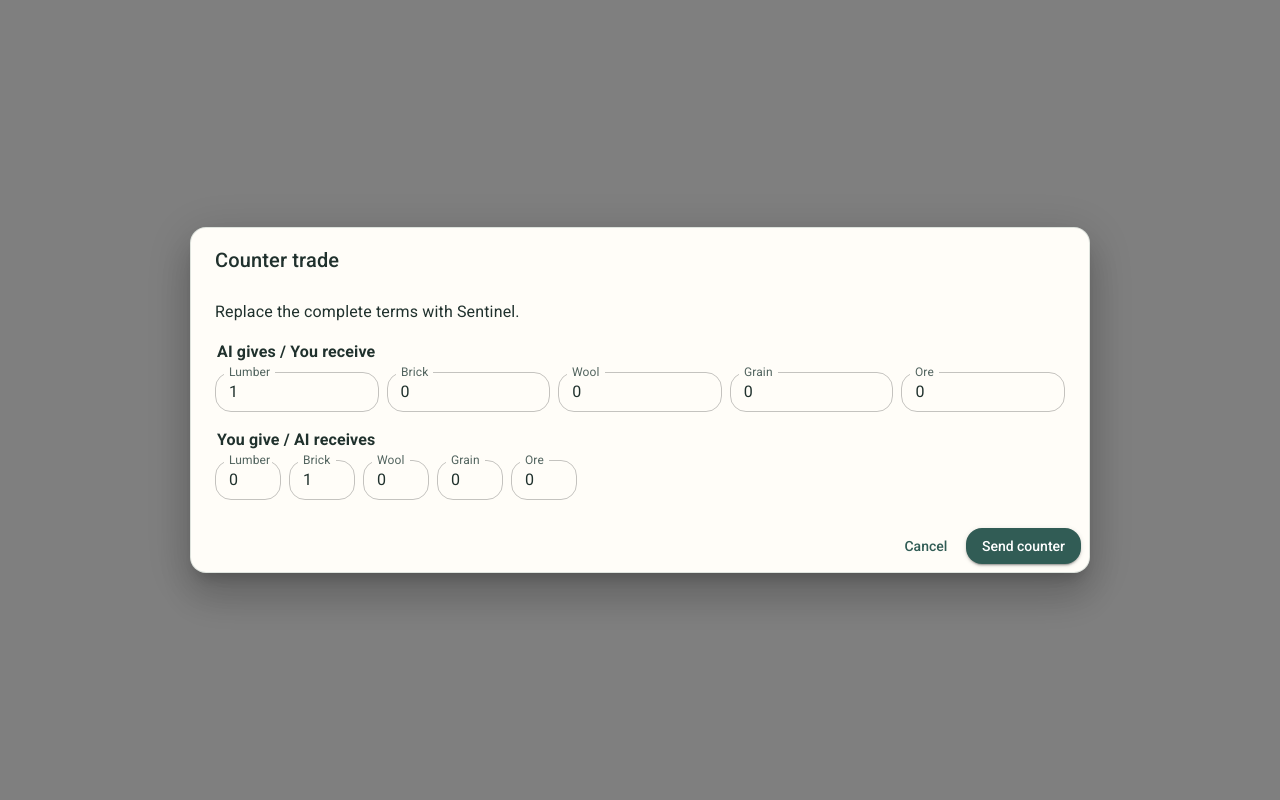
Test: game decision dialogs › blocks empty and overlapping counter terms with non-private explanations
Replace the text in the number field named "AI gives / You receive Brick" with "1". click: (468, 392)
box: [387, 372, 550, 412]
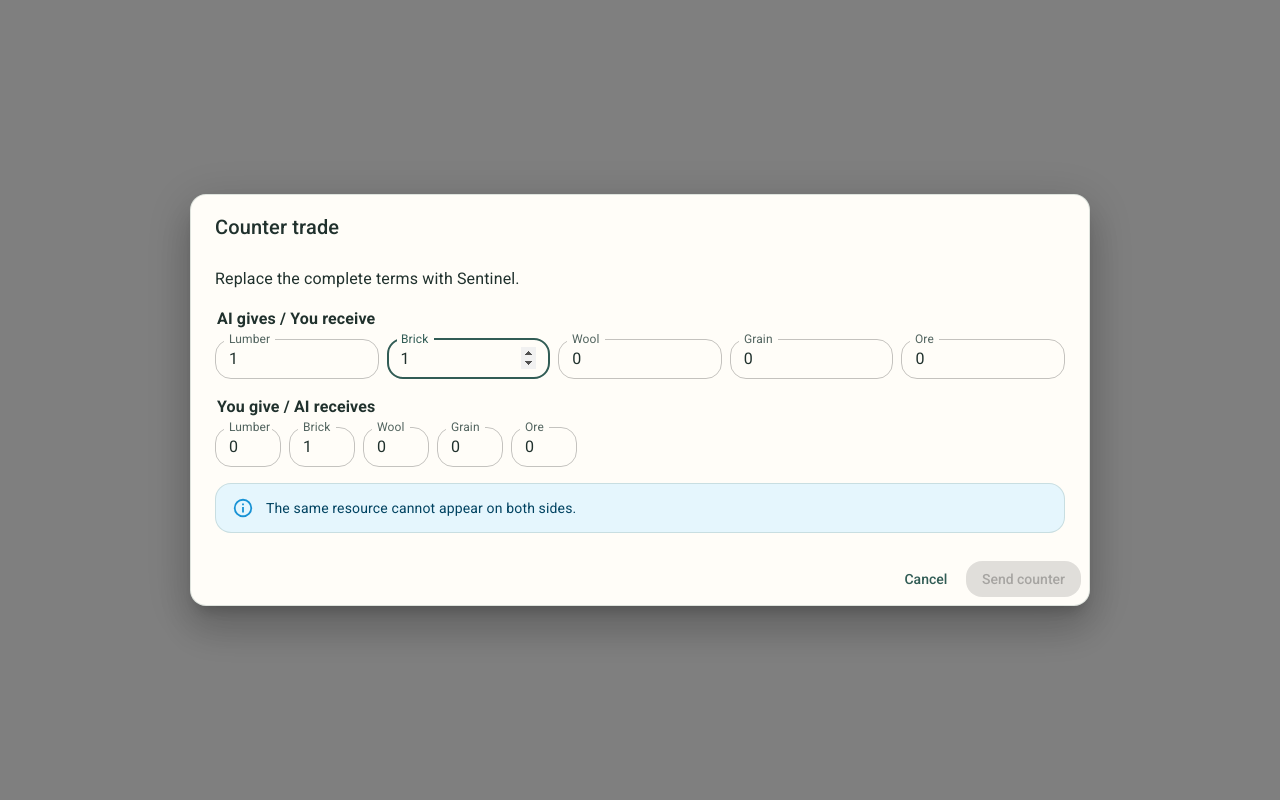
Now the text "The same resource cannot appear on both sides." is shown, box [266, 500, 576, 516]
Now the button "Send counter" is disabled, box [966, 561, 1081, 597]
